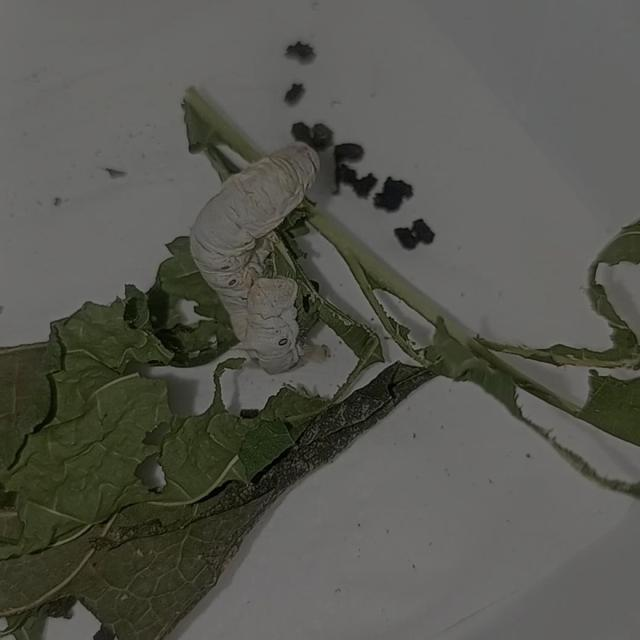Healthy: (179, 128, 380, 393)
